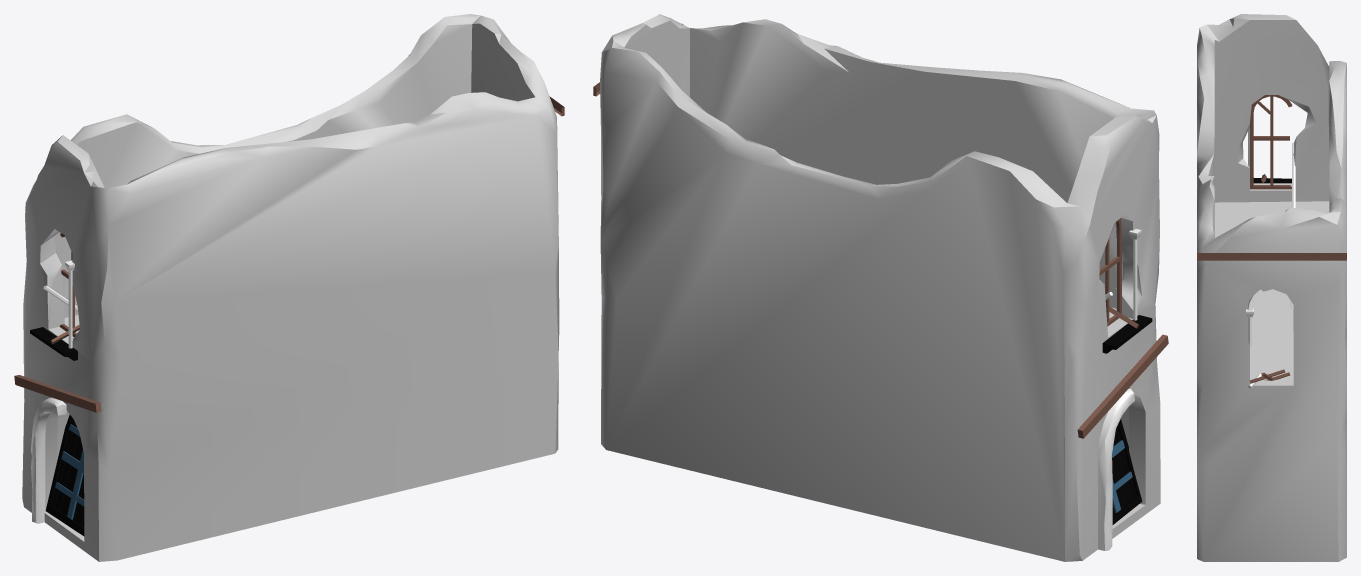
The model's file is civilian_house_ruin_c.FBX.
The picture shows the model from 3 angles, left to right: view 1: azimuth 30°, elevation 25°; view 2: azimuth 150°, elevation 25°; view 3: azimuth 270°, elevation 25°; orthographic projection. The views are drawn at different scales.
Visible parts, largest first — view 1: civilian_house_ruin_c_LOD0; view 2: civilian_house_ruin_c_LOD0; view 3: civilian_house_ruin_c_LOD0.
Boxes of the visible parts, box(x1,y1,x2,y2) form: civilian_house_ruin_c_LOD0: box(14, 14, 564, 561); civilian_house_ruin_c_LOD0: box(593, 14, 1168, 561); civilian_house_ruin_c_LOD0: box(1197, 14, 1346, 561).
Size of what is drawn, in the model's own units: 1094 by 801 by 313.
